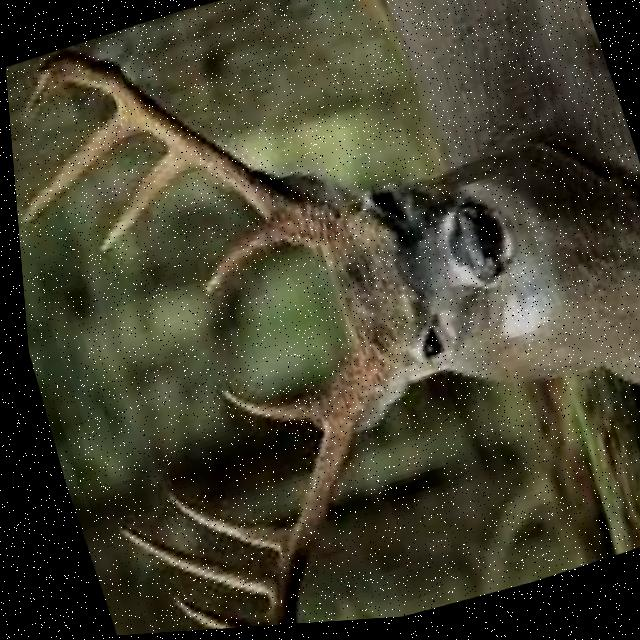L-F: (19, 49, 348, 269)
L-G1: (198, 225, 294, 296)
L-G2: (93, 148, 190, 253)
L-G3: (16, 107, 142, 223)
R-F: (248, 340, 390, 629)
R-G1: (213, 380, 324, 432)
R-G2: (158, 492, 279, 557)
R-G3: (108, 523, 262, 597)
R-G4: (163, 597, 246, 632)
